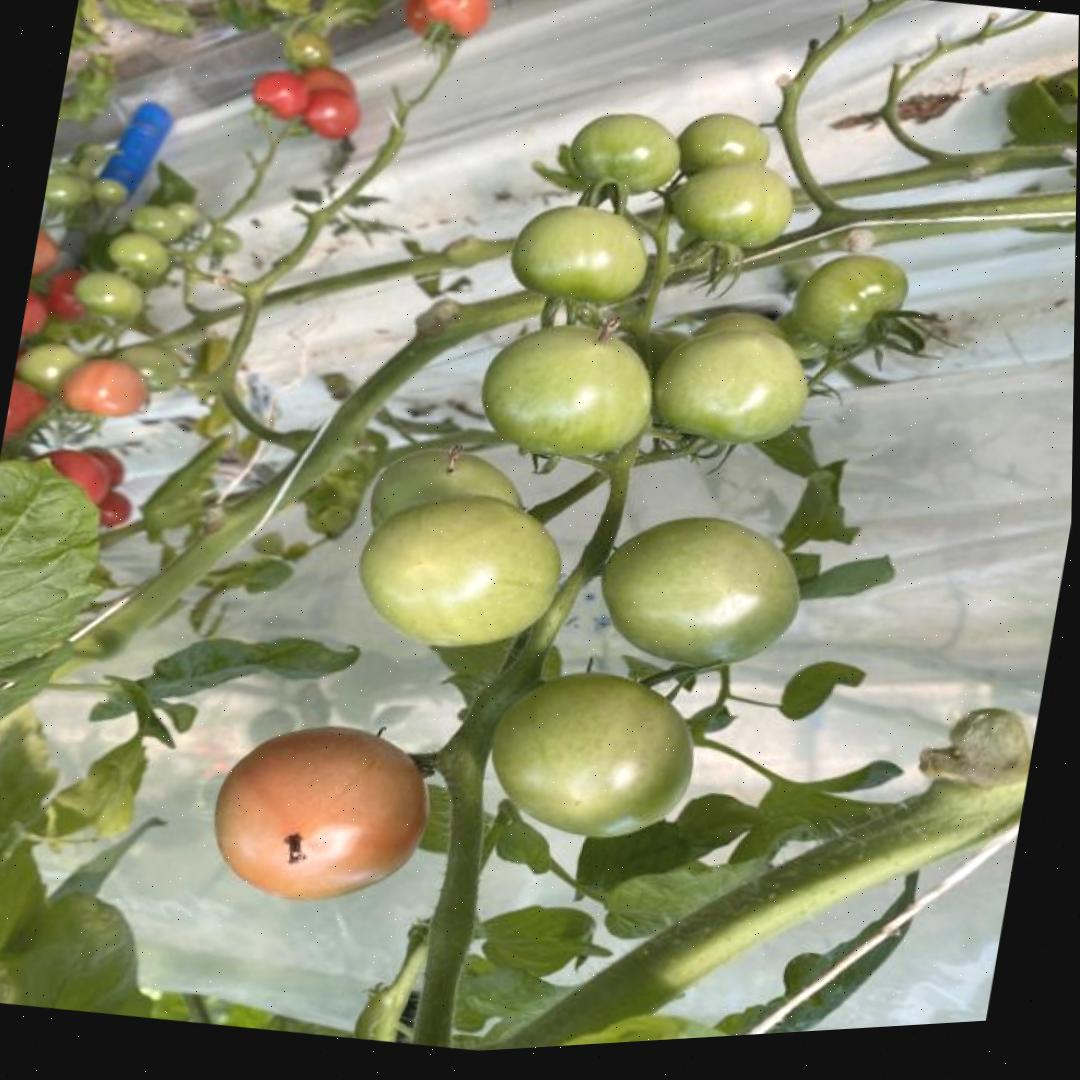matang: (248, 63, 310, 124), (416, 0, 496, 40)
mentah: (476, 651, 710, 860), (343, 469, 576, 672), (586, 499, 816, 684), (473, 306, 665, 472), (642, 311, 817, 459), (502, 191, 660, 317), (661, 147, 802, 264), (788, 241, 913, 354), (560, 97, 687, 208), (68, 265, 152, 326)
setengah_matang: (200, 701, 443, 926), (58, 347, 153, 423)
